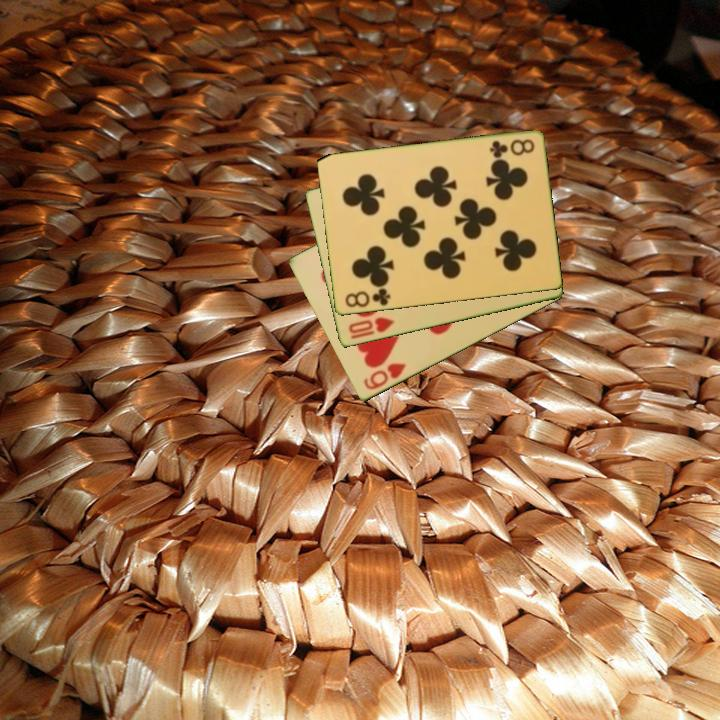10h: (345, 314, 397, 337)
6h: (360, 360, 409, 393)
8c: (341, 285, 393, 311), (486, 136, 537, 160)
